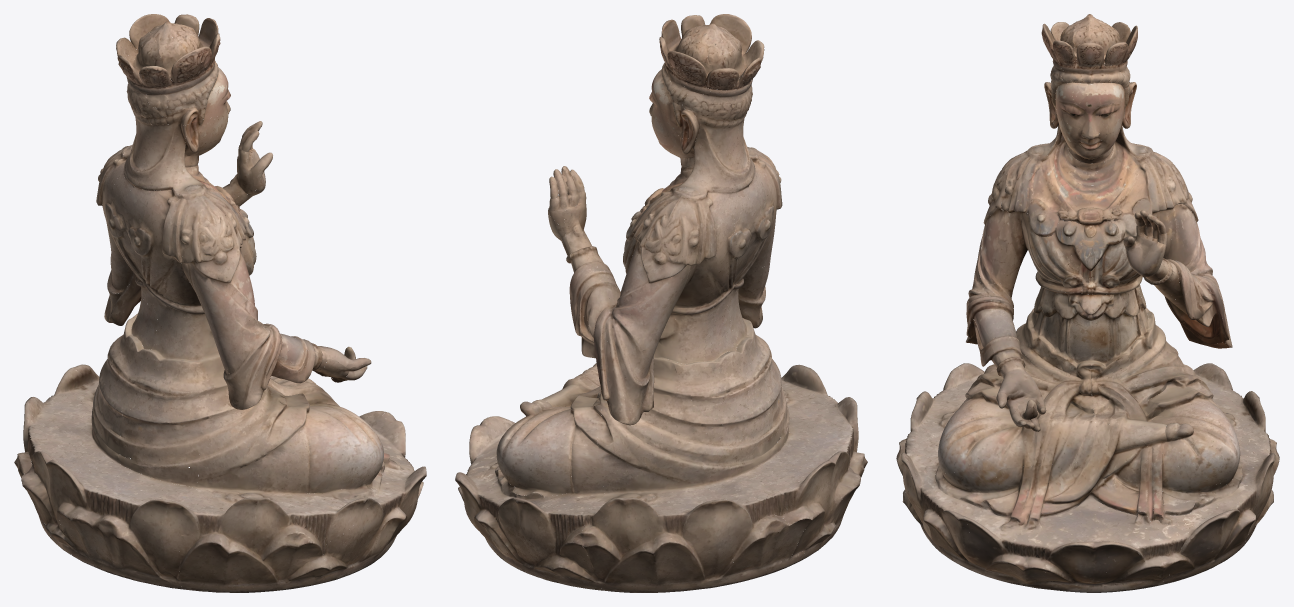
Rendered from f5-sarvanivarana.glb.
3 renders of one model, left to right at view 1: azimuth 30°, elevation 25°; view 2: azimuth 150°, elevation 25°; view 3: azimuth 270°, elevation 25°, orthographic. The views are drawn at different scales.
Parts seen in each view (by area): view 1: tripo_node_2c40964a-8567-4d48-99db-c51e86293666; view 2: tripo_node_2c40964a-8567-4d48-99db-c51e86293666; view 3: tripo_node_2c40964a-8567-4d48-99db-c51e86293666.
Part boxes in pixels (<box>): tripo_node_2c40964a-8567-4d48-99db-c51e86293666: <box>14,14,426,592</box>; tripo_node_2c40964a-8567-4d48-99db-c51e86293666: <box>455,14,867,592</box>; tripo_node_2c40964a-8567-4d48-99db-c51e86293666: <box>896,14,1279,592</box>.
Bounding box in the file's own units: 0.7139 × 1 × 0.7148.
1 material, 1 textured.
